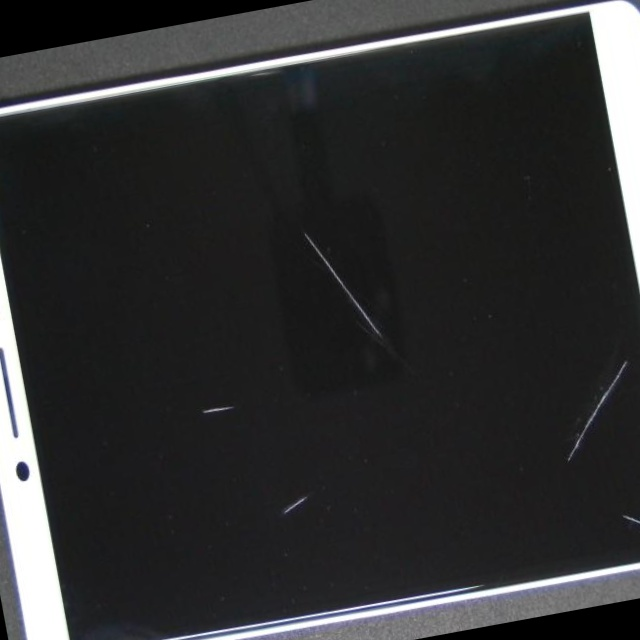scratch: (38, 0, 513, 424), (296, 83, 640, 640), (119, 216, 477, 640)
